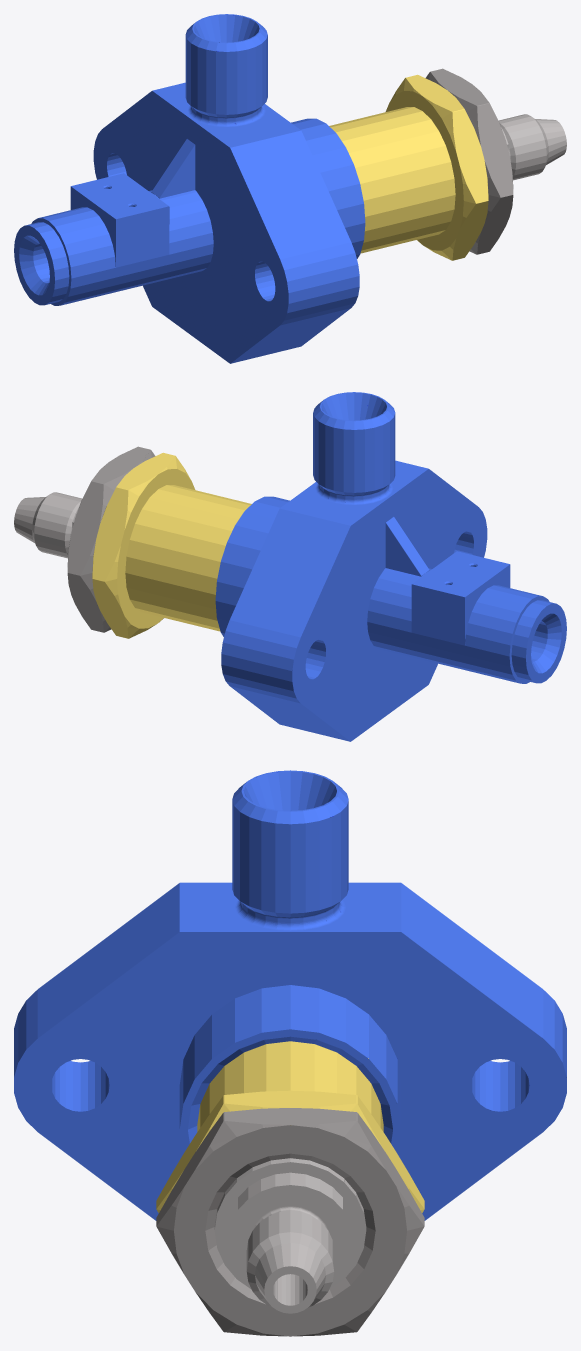
The model's file is МЧ00.73.00.00 СБ Клапан обратный.fbx.
3 views of the same model, one above another, from view 1: azimuth 30°, elevation 25°; view 2: azimuth 150°, elevation 25°; view 3: azimuth 270°, elevation 25° (orthographic). The views are drawn at different scales.
Visible parts, largest first — view 1: 1 3D фрагмент 1 (МЧ00 73 00 01 Корпус grs), 3 3D фрагмент 3 (МЧ00 73 00 02 Гайка grs), 6 3D фрагмент 6 (М30 5 Гайка grs), 7 3D фрагмент 7 (МЧ00 73 00 04 Наконечник g; view 2: 1 3D фрагмент 1 (МЧ00 73 00 01 Корпус grs), 3 3D фрагмент 3 (МЧ00 73 00 02 Гайка grs), 6 3D фрагмент 6 (М30 5 Гайка grs), 7 3D фрагмент 7 (МЧ00 73 00 04 Наконечник g; view 3: 1 3D фрагмент 1 (МЧ00 73 00 01 Корпус grs), 6 3D фрагмент 6 (М30 5 Гайка grs), 7 3D фрагмент 7 (МЧ00 73 00 04 Наконечник g, 3 3D фрагмент 3 (МЧ00 73 00 02 Гайка grs).
Boxes of the visible parts, x1,y1,x2,y2 form: 1 3D фрагмент 1 (МЧ00 73 00 01 Корпус grs): (14,14,365,363); 3 3D фрагмент 3 (МЧ00 73 00 02 Гайка grs): (329,74,488,260); 6 3D фрагмент 6 (М30 5 Гайка grs): (425,68,513,254); 7 3D фрагмент 7 (МЧ00 73 00 04 Наконечник g: (499,114,566,180); 1 3D фрагмент 1 (МЧ00 73 00 01 Корпус grs): (215,392,566,741); 3 3D фрагмент 3 (МЧ00 73 00 02 Гайка grs): (92,452,251,638); 6 3D фрагмент 6 (М30 5 Гайка grs): (67,446,155,632); 7 3D фрагмент 7 (МЧ00 73 00 04 Наконечник g: (14,492,81,558); 1 3D фрагмент 1 (МЧ00 73 00 01 Корпус grs): (14,770,566,1220); 6 3D фрагмент 6 (М30 5 Гайка grs): (156,1108,424,1336); 7 3D фрагмент 7 (МЧ00 73 00 04 Наконечник g: (214,1158,366,1313); 3 3D фрагмент 3 (МЧ00 73 00 02 Гайка grs): (156,1041,424,1212).
Bounding box in the file's own units: 14700 × 8000 × 9482.
